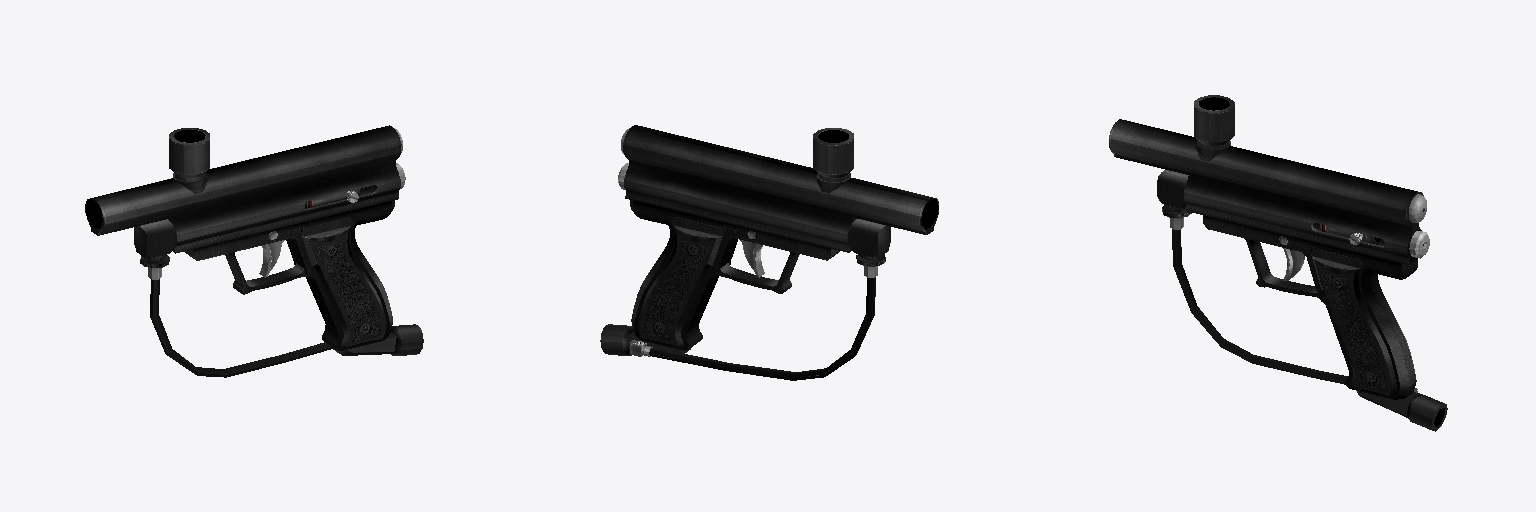
3 views of the same model, side by side, from view 1: azimuth 30°, elevation 25°; view 2: azimuth 150°, elevation 25°; view 3: azimuth 330°, elevation 25° (orthographic).
Parts seen in each view (by area): view 1: default; view 2: default; view 3: default.
Boxes of the visible parts, <box> form: default: <box>85,125,423,377</box>; default: <box>600,125,938,380</box>; default: <box>1109,95,1447,431</box>.
Size of the model in its own units: 9.51 by 7.61 by 1.23.
1 materials, 1 textured.